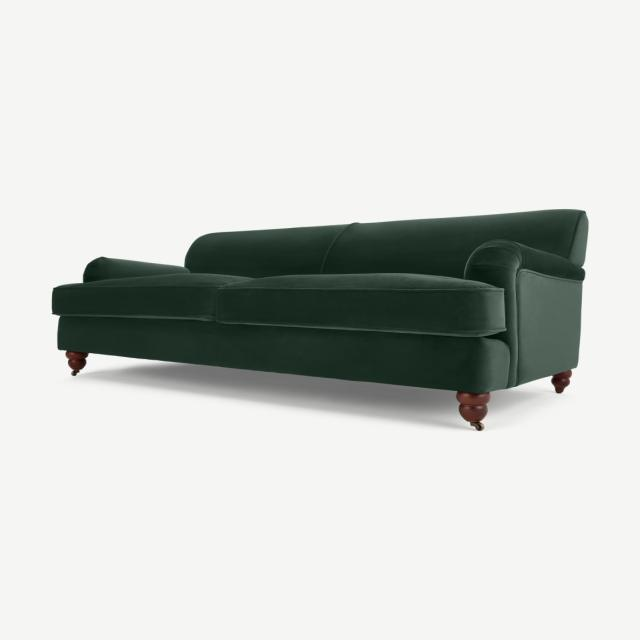Soffa: (54, 213, 597, 423)
